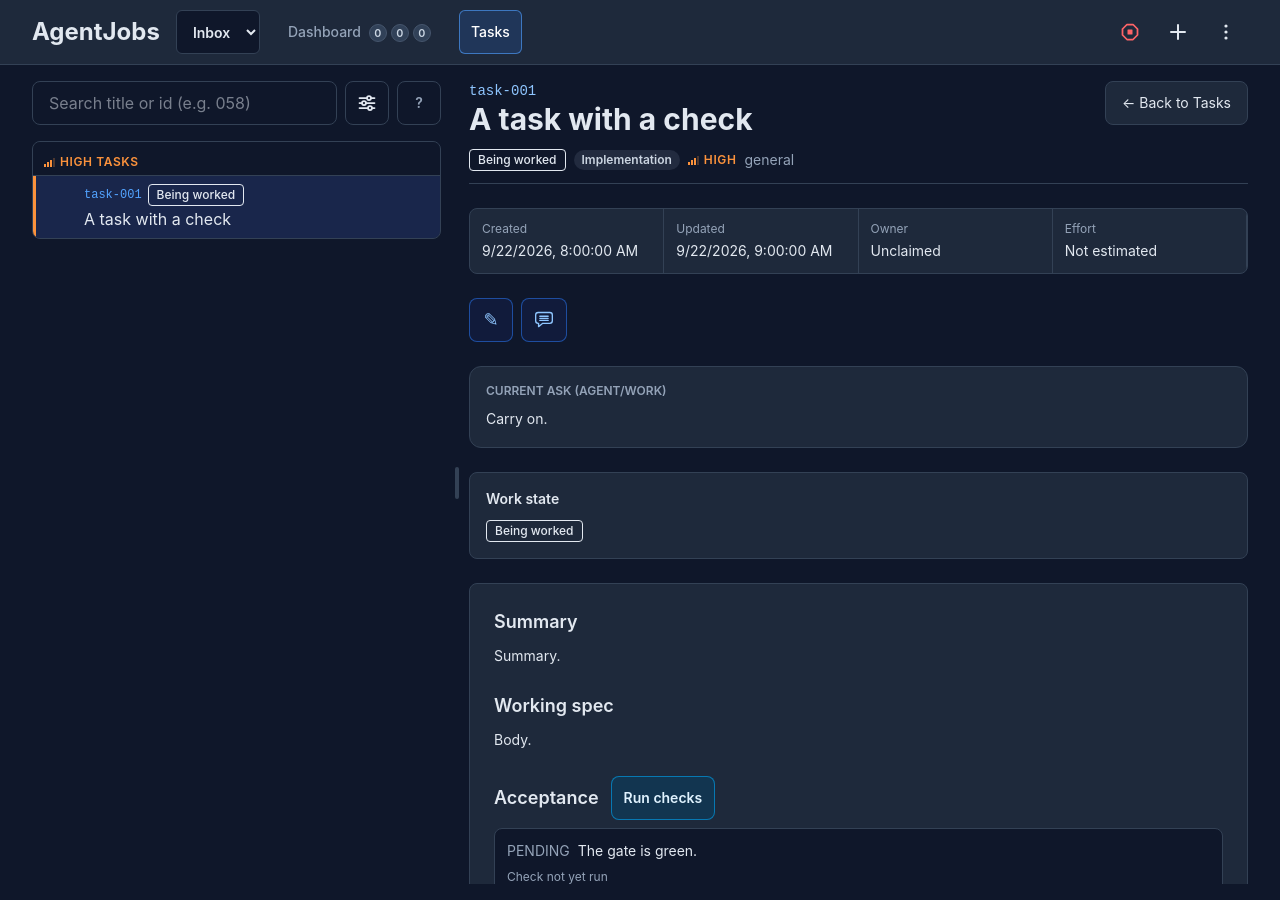
Test: Run checks on the task page › shows the server's own refusal rather than a paraphrase of it
Click the button "Run checks": (663, 798) [611,776,715,820]
(page scrolled)
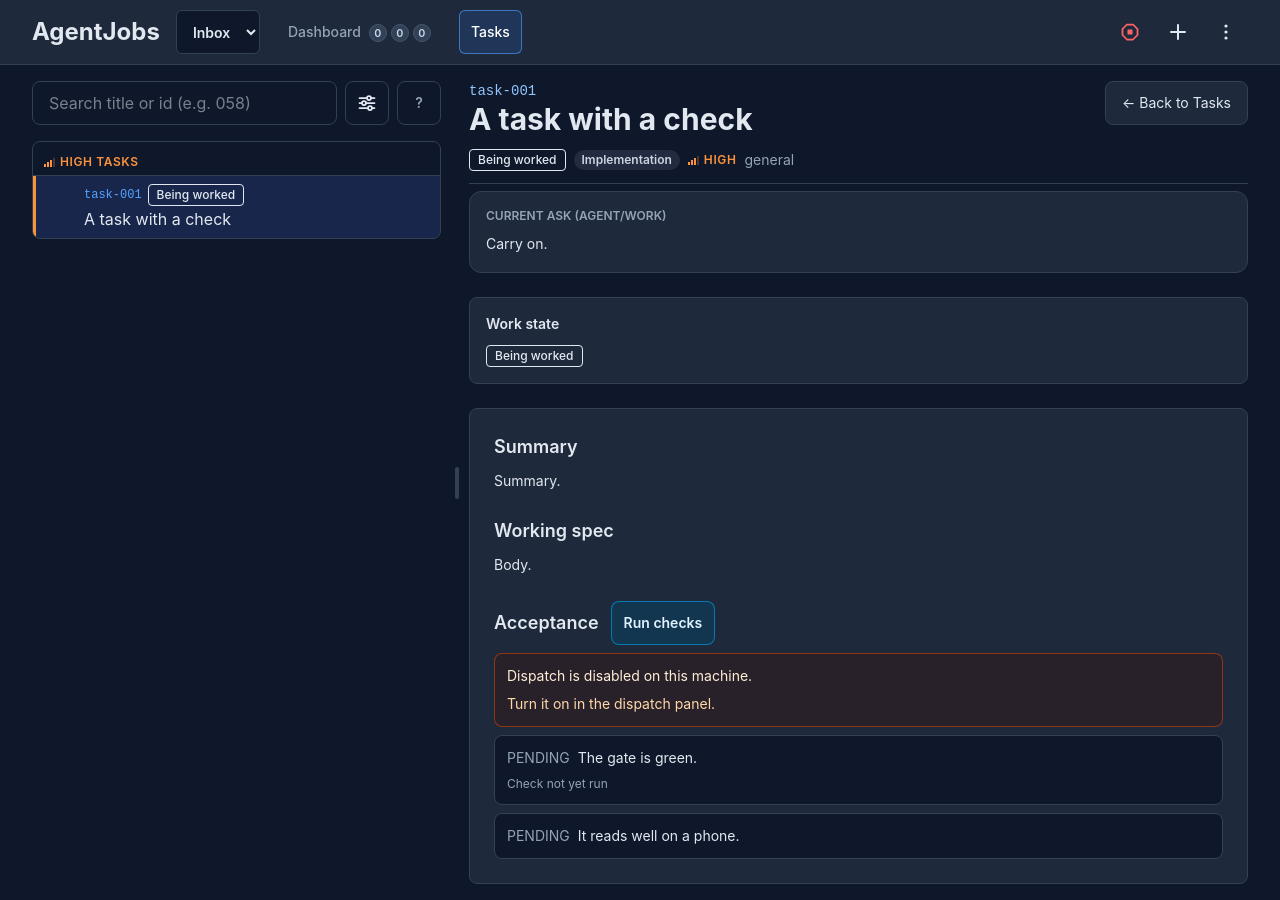
Expected: the text "Check not yet run" is shown, [507,776,608,791]
Now the message shows "Dispatch is disabled on this machine.", box [507,667,752,684]
Now the message shows "Turn it on in the dispatch panel.", box [507,695,715,712]
